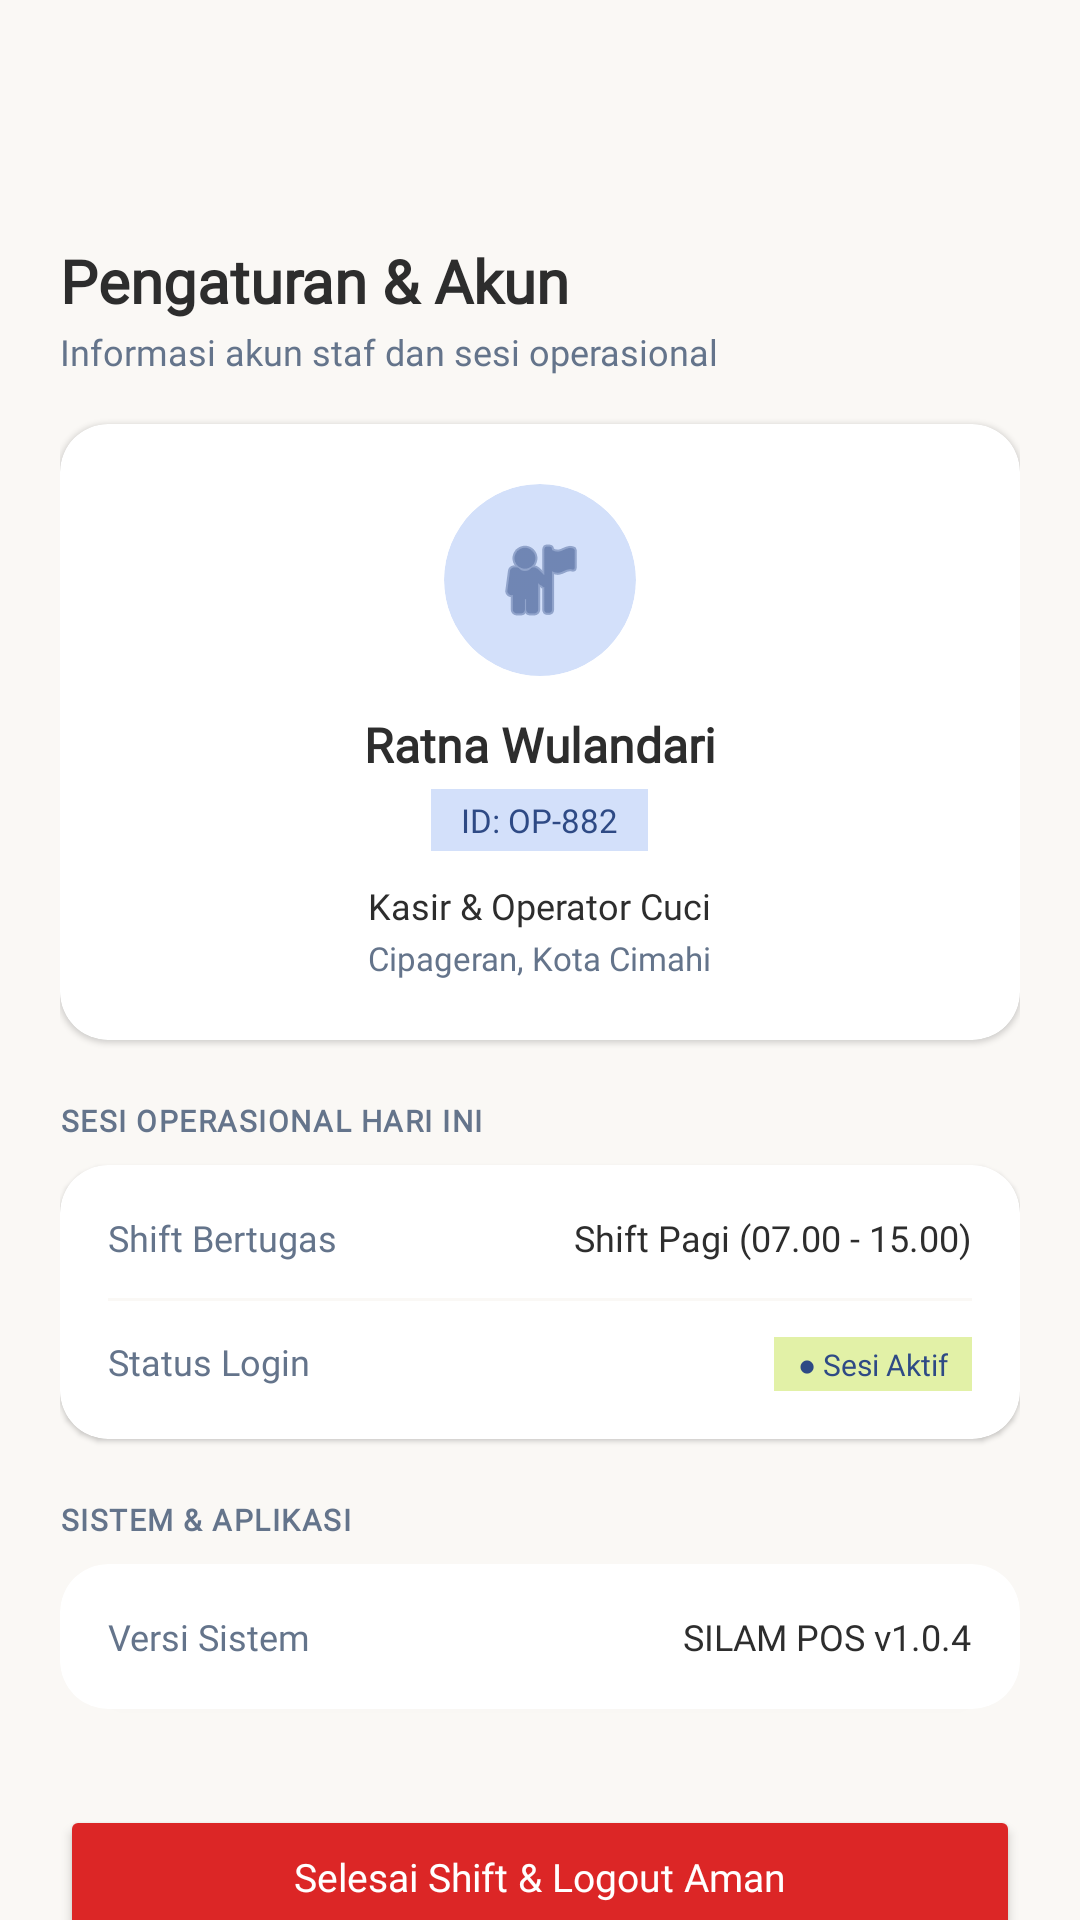

Where icons sit on this 1080x1920 app screen, as bbox(x1, y1, x2, y2):
Foto Profil: bbox(505, 544, 577, 616)
